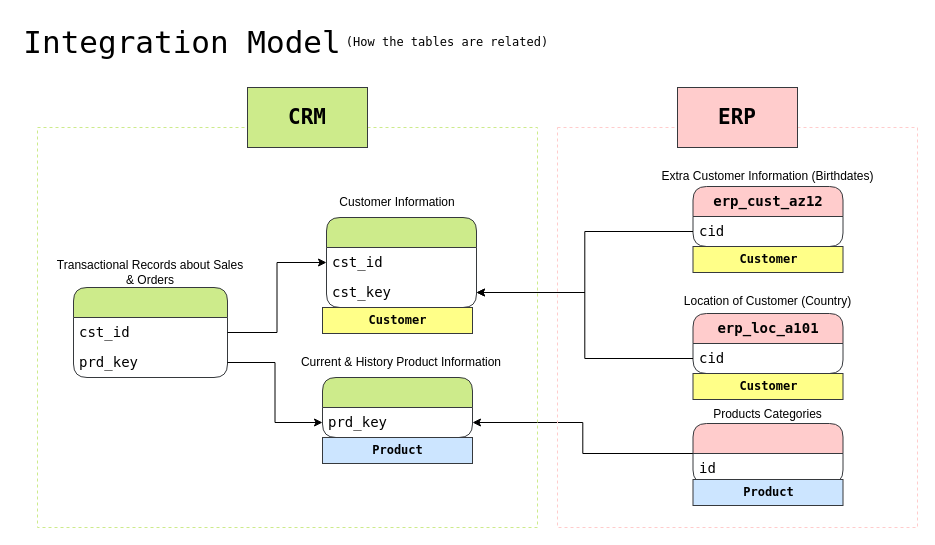
This 935x545 diagram has some shape labels left out. The box of each missing label's shape, as (x1, y1, x2, y2) in pixels:
crm_cust_info: (326, 216, 476, 308)
crm_prd_info: (322, 376, 472, 438)
crm_sales_details: (72, 286, 228, 378)
erp_px_cat_g1v2: (692, 422, 843, 484)
